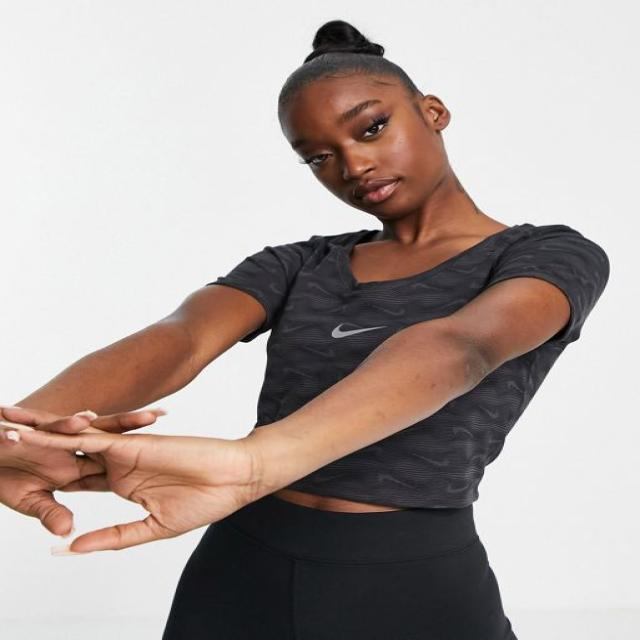tshirt: (205, 219, 610, 510)
